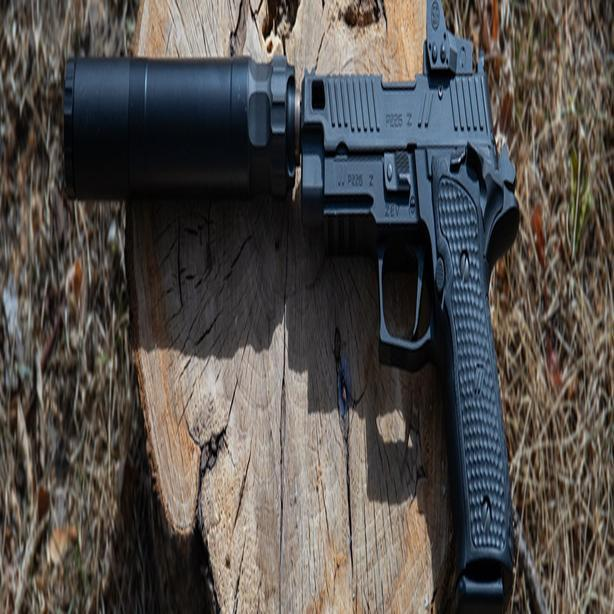Firearm: (42, 35, 565, 607)
